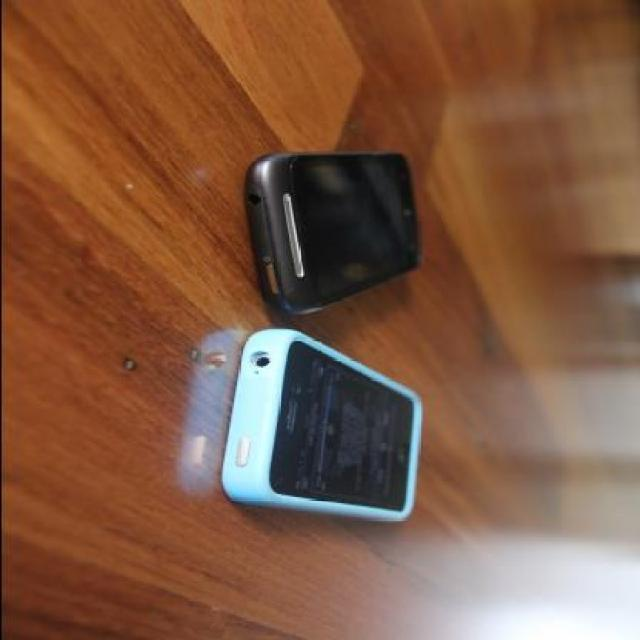phone: (220, 332, 418, 523), (246, 153, 422, 316)
